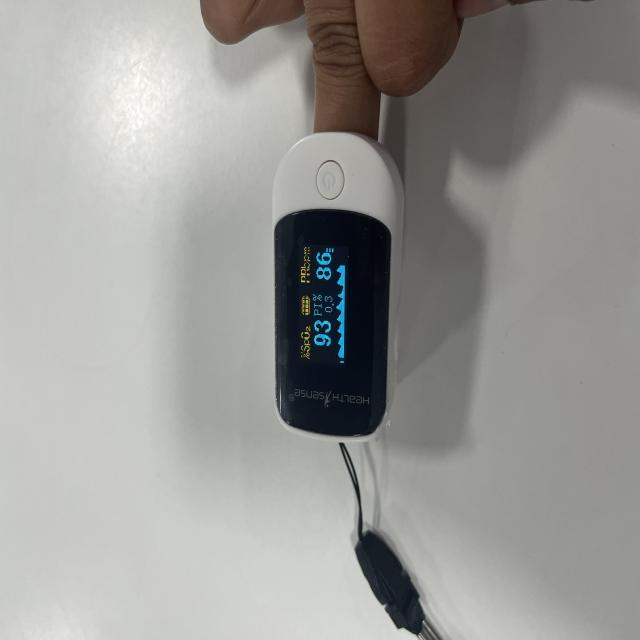spo2: (270, 132, 405, 443)
